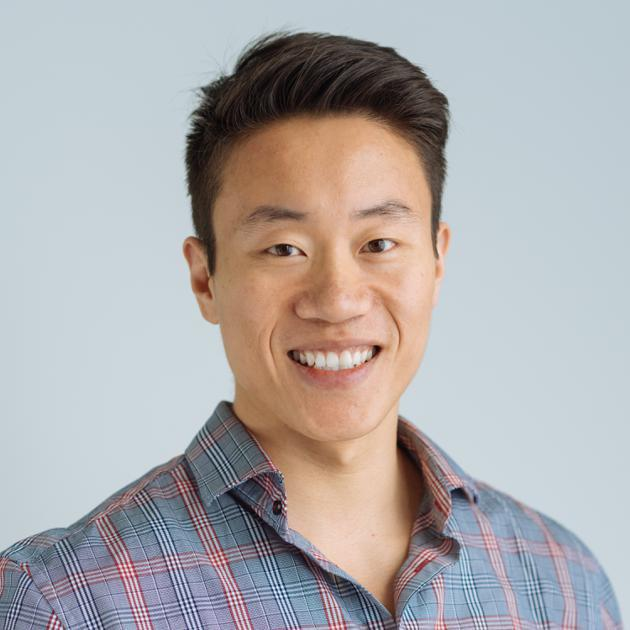Sober: (233, 127, 434, 428)
